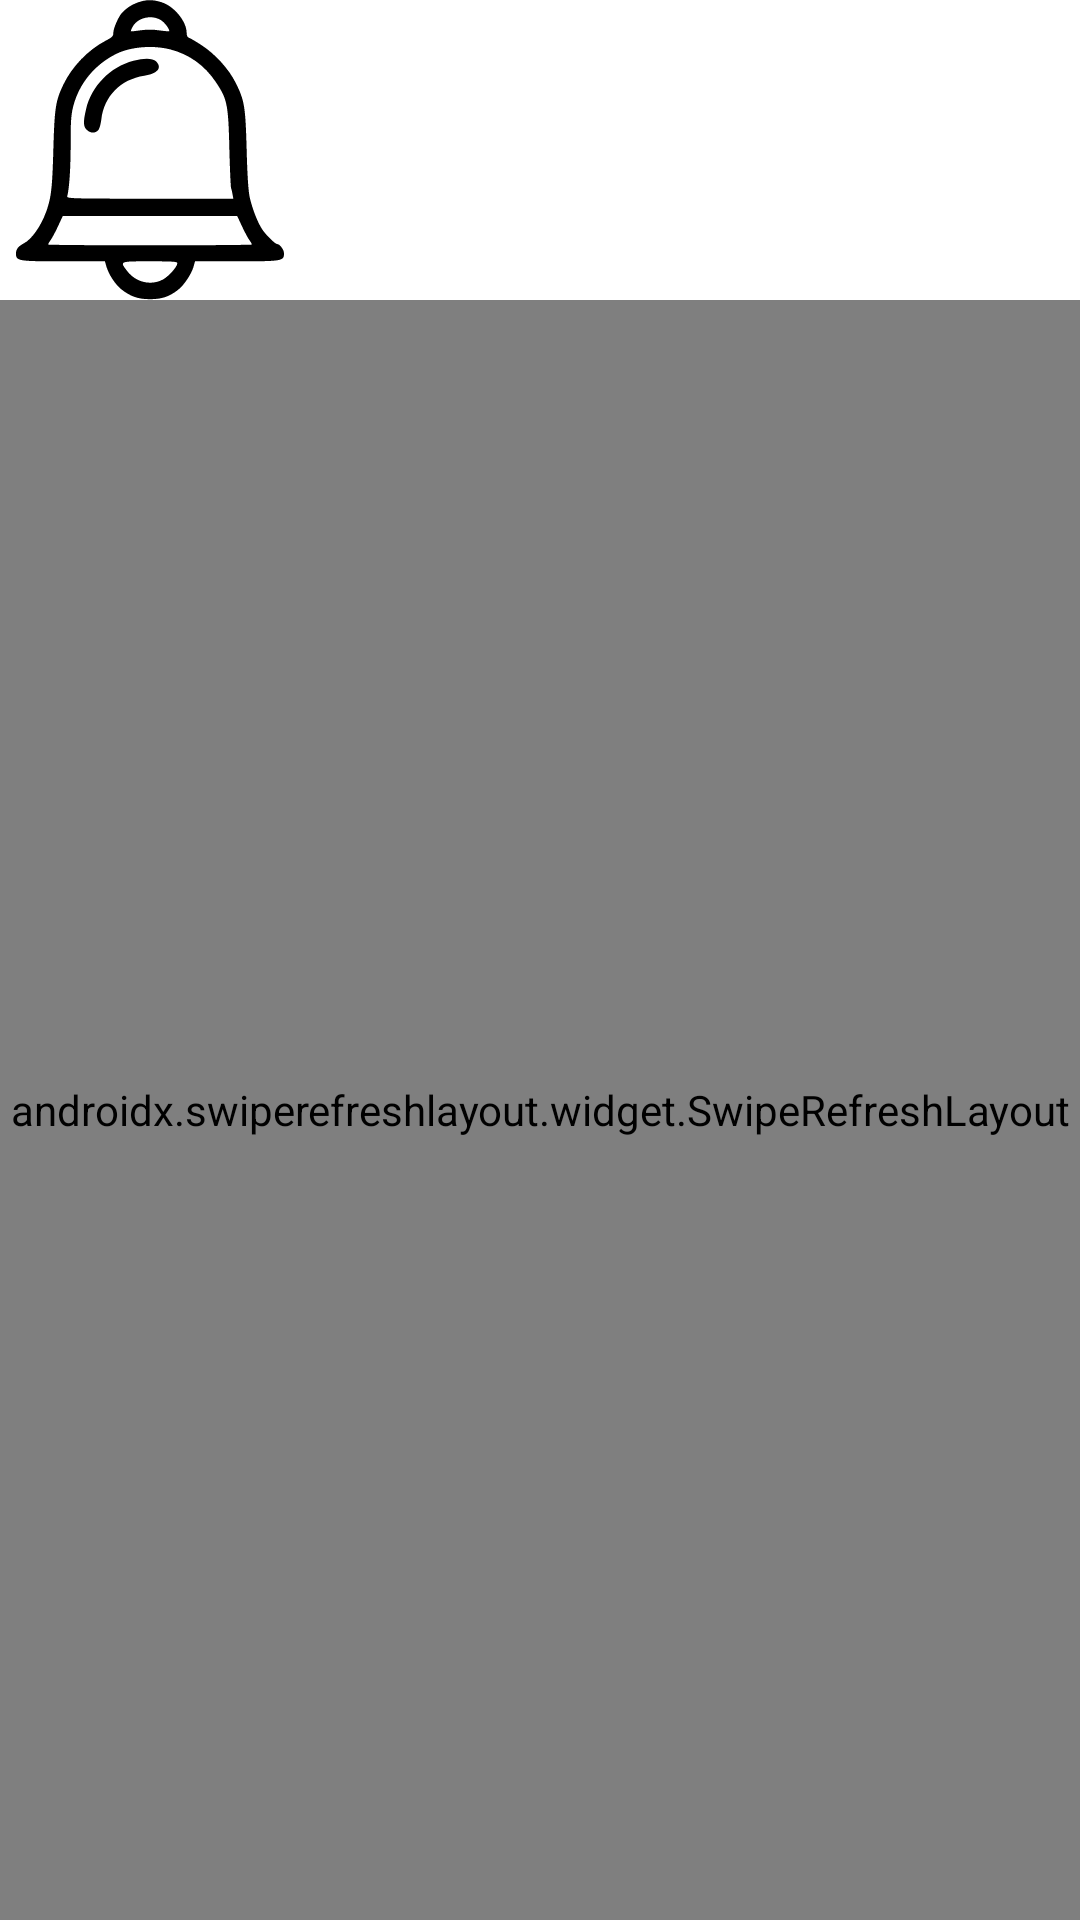

Where to tap for icons on this 1080×1920 app screen, as (x=x, y=y):
bell: (x=150, y=150)
